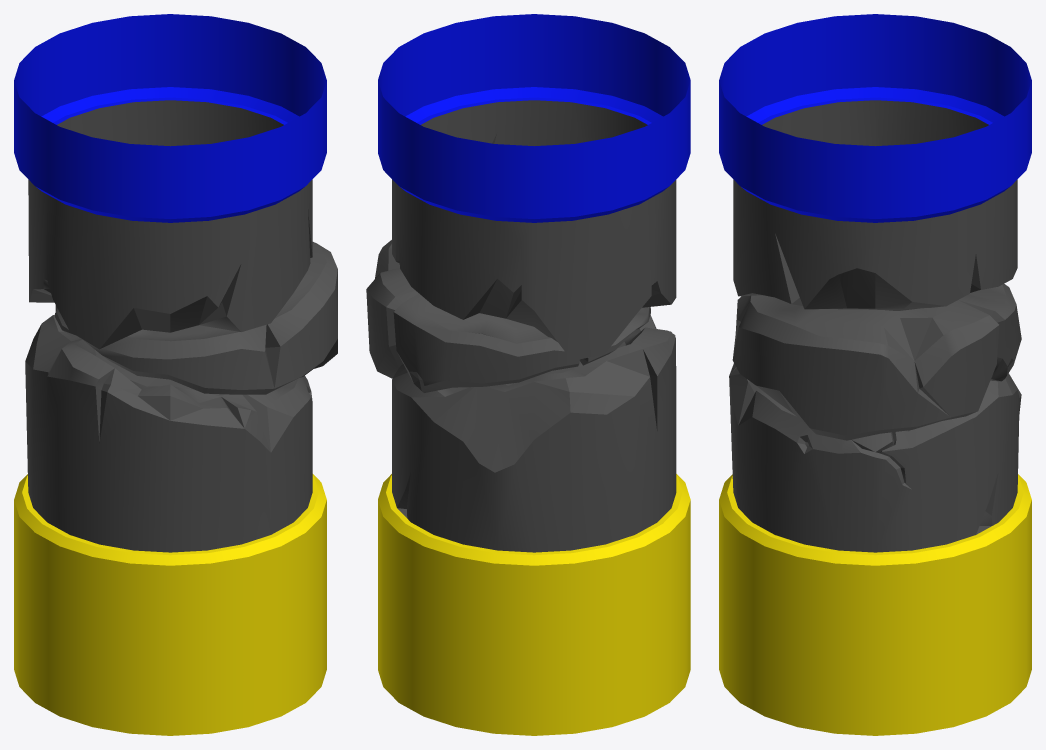
Rendered from env_warehousedestroyed_pillarsupport_lod0.fbx.
3 views of the same model, side by side, from view 1: azimuth 30°, elevation 25°; view 2: azimuth 150°, elevation 25°; view 3: azimuth 270°, elevation 25° (orthographic).
Parts seen in each view (by area): view 1: env_building_pillarsupport_destoryed; view 2: env_building_pillarsupport_destoryed; view 3: env_building_pillarsupport_destoryed.
Boxes of the visible parts, x1,y1,x2,y2 form: env_building_pillarsupport_destoryed: (14,14,337,735); env_building_pillarsupport_destoryed: (366,14,690,735); env_building_pillarsupport_destoryed: (719,14,1031,735).
Size of the model in its own units: 25.65 by 50.78 by 24.41.
